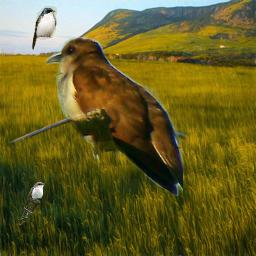Cuckoo: (46, 37, 183, 199), (18, 181, 45, 225)
Swallow: (32, 6, 57, 50)
